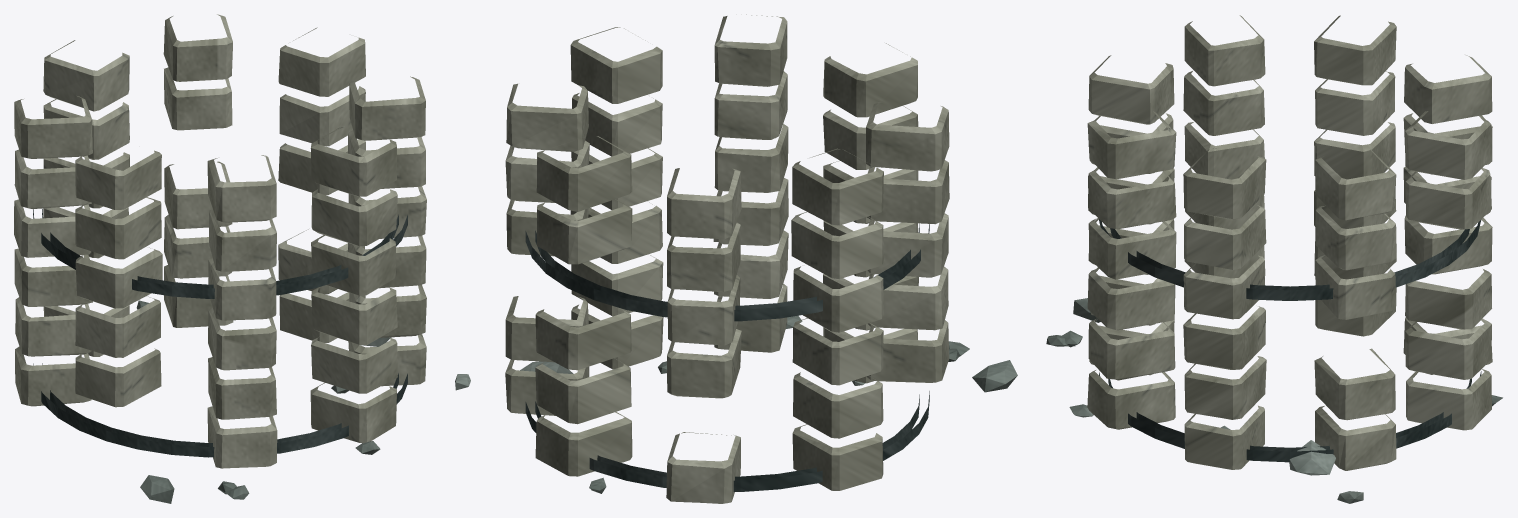
File: 0404_ruined_tower_04.glb
3 renders of one model, left to right at view 1: azimuth 30°, elevation 25°; view 2: azimuth 150°, elevation 25°; view 3: azimuth 270°, elevation 25°, orthographic. The views are drawn at different scales.
Parts seen in each view (by area): view 1: stone_light, stone_dark, stone; view 2: stone_light, stone_dark, stone; view 3: stone_light, stone_dark, stone.
Part boxes in pixels (<box>): stone_light: <box>14,14,426,468</box>; stone_dark: <box>33,208,407,457</box>; stone: <box>136,300,391,503</box>; stone_light: <box>505,14,949,503</box>; stone_dark: <box>525,223,929,491</box>; stone: <box>455,315,1017,493</box>; stone_light: <box>1087,15,1492,470</box>; stone_dark: <box>1099,219,1481,462</box>; stone: <box>1046,298,1502,503</box>.
Bounding box in the file's own units: 3.52 × 2.5 × 3.47.
Materials: 3 (3 with a texture image).
